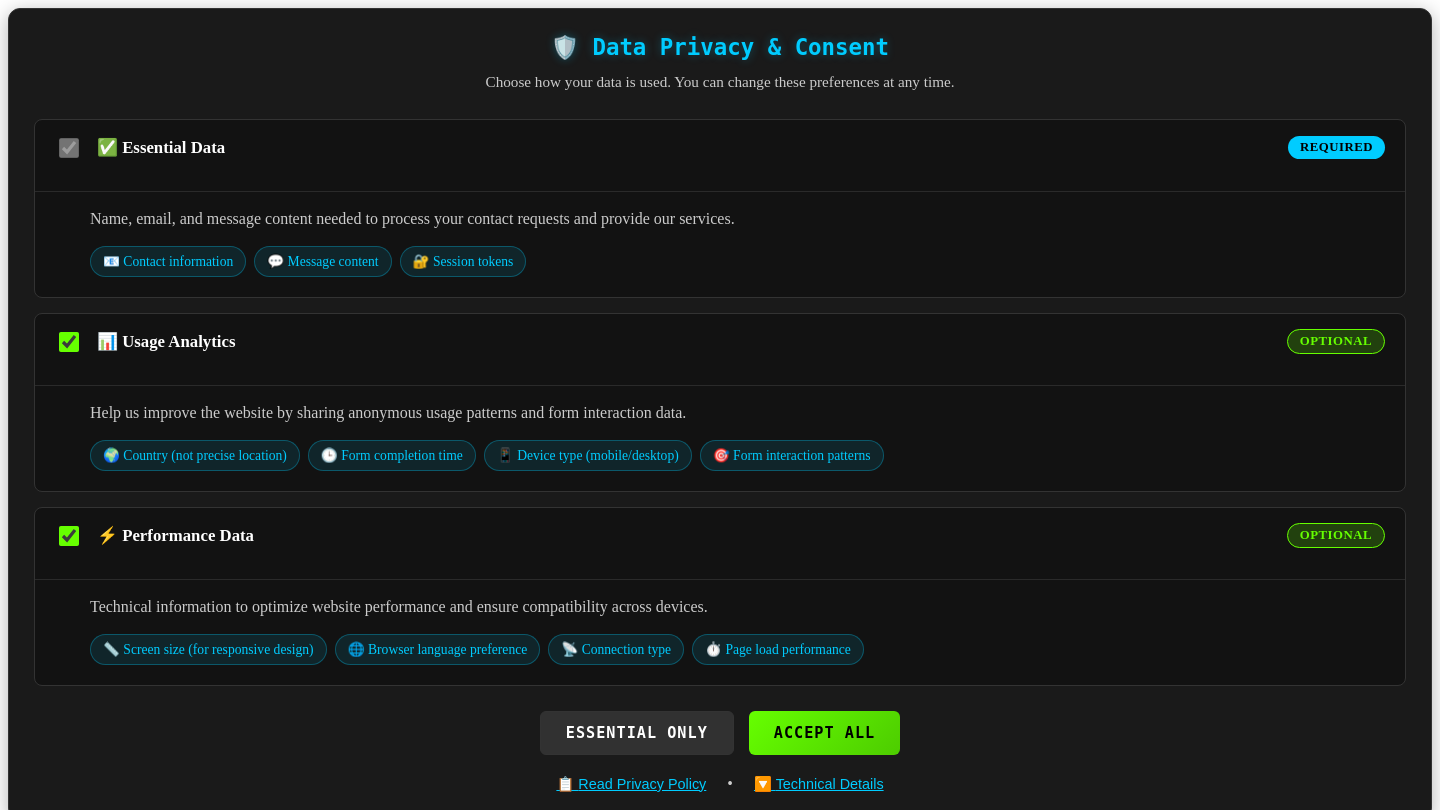
it: PrivacyConsent Component › Essential Only button › unchecks analytics after Essential Only
The image size is (1440, 810).
Step 1. Click the button "Essential Only" → (637,733), box [540, 711, 734, 755]
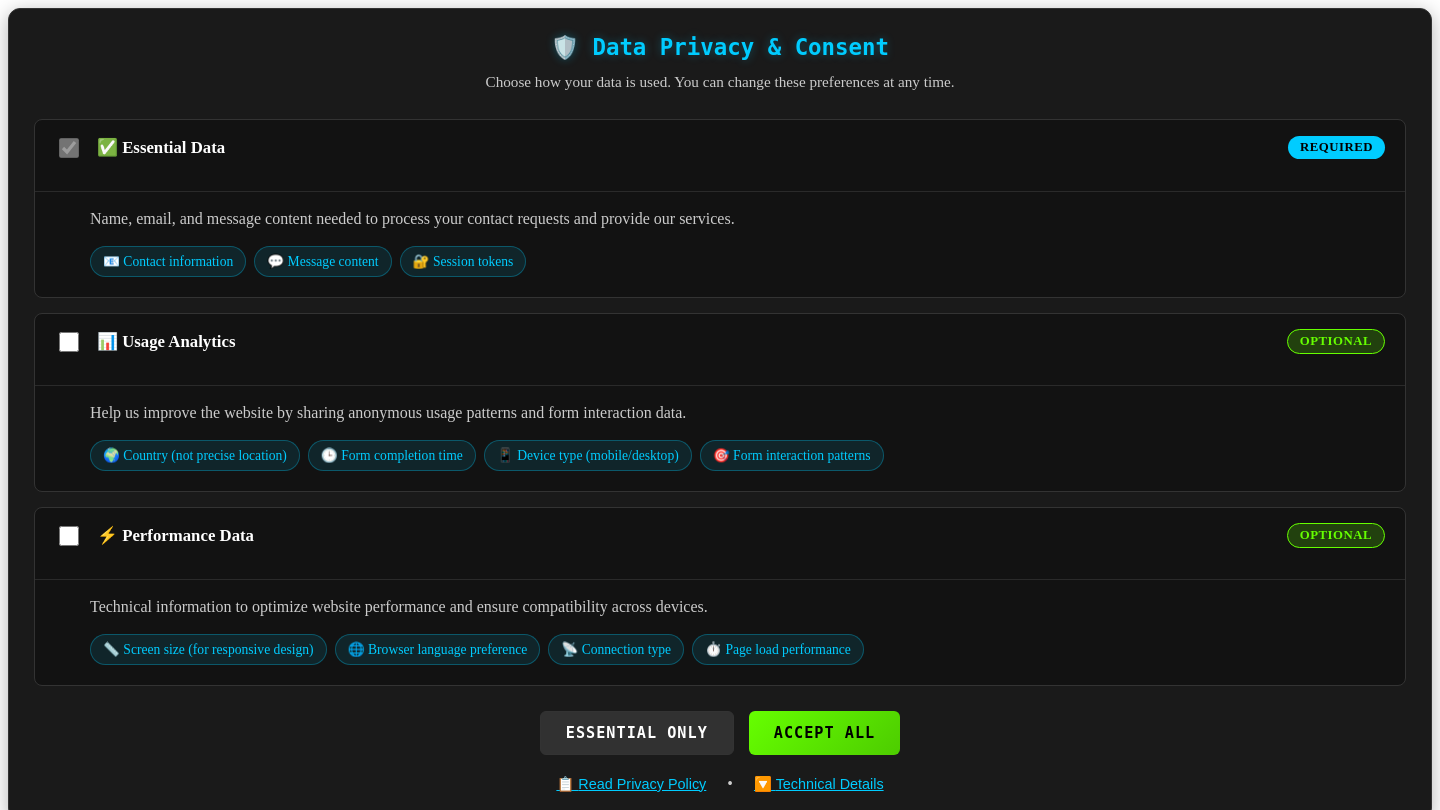
Expected: the checkbox labelled "📊 Usage Analytics Optional" is not checked, [59, 332, 79, 352]
